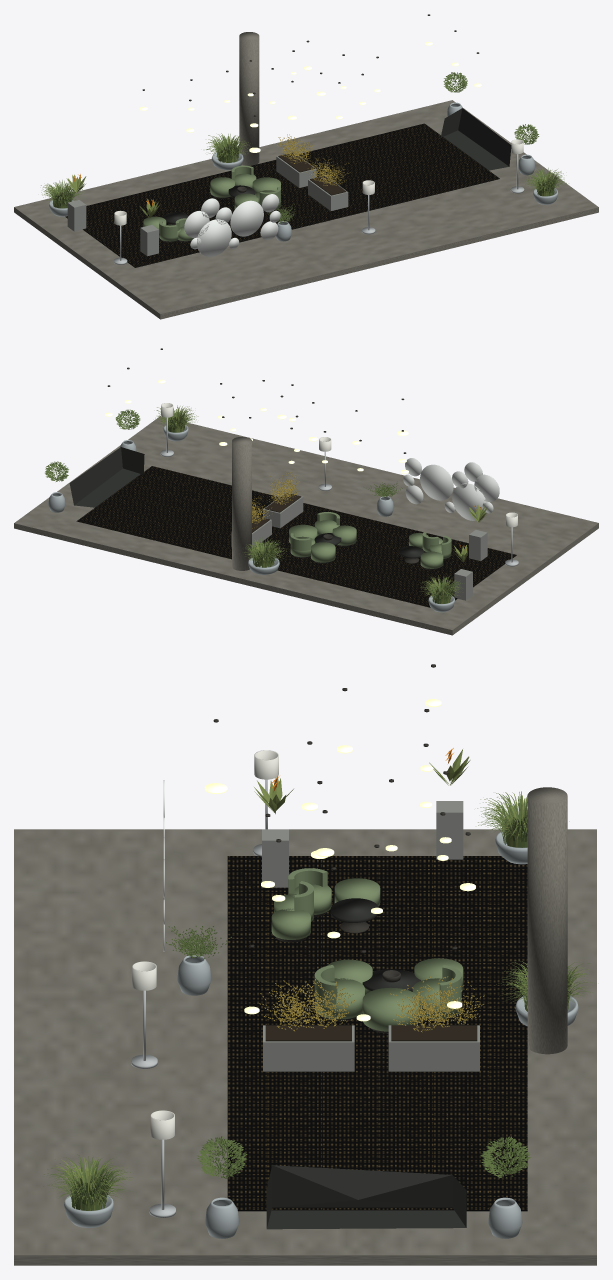
Rendered from M4_cutaway.glb.
3 renders of one model, top to bottom at view 1: azimuth 30°, elevation 25°; view 2: azimuth 150°, elevation 25°; view 3: azimuth 270°, elevation 25°, orthographic. The views are drawn at different scales.
Parts seen in each view (by area): view 1: Stone foundation, Reflective black gold mosaic, Column full height, Angular black reception counter, Circular mirror disk.001, Circular mirror disk, Rectangular planter cast body.001, Rectangular planter cast body, Tall square plant container.001, Fine golden leaves and flowers, Fine golden leaves and flowers.001, Tall square plant container (+2 smaller); view 2: Stone foundation, Reflective black gold mosaic, Column full height, Angular black reception counter, Circular mirror disk, Circular mirror disk.001, Rectangular planter cast body.001, Tall square plant container.001, Tall square plant container, Fine golden leaves and flowers.001, Circular mirror disk.002, Round upholstered seat (+1 smaller); view 3: Stone foundation, Reflective black gold mosaic, Angular black reception counter, Column full height, Rectangular planter cast body, Rectangular planter cast body.001, Round upholstered seat.002, Fine golden leaves and flowers.001, Fine golden leaves and flowers, Tall square plant container.001, Tall square plant container, Recessed dark planting bed (+15 smaller).
Boxes of the visible parts, x1=… form: Stone foundation: x1=14, y1=100, x2=598, y2=319; Reflective black gold mosaic: x1=65, y1=123, x2=499, y2=267; Column full height: x1=239, y1=32, x2=259, y2=165; Angular black reception counter: x1=440, y1=108, x2=511, y2=170; Circular mirror disk.001: x1=197, y1=219, x2=231, y2=256; Circular mirror disk: x1=230, y1=200, x2=263, y2=236; Rectangular planter cast body.001: x1=308, y1=179, x2=348, y2=210; Rectangular planter cast body: x1=276, y1=156, x2=316, y2=187; Tall square plant container.001: x1=67, y1=200, x2=86, y2=231; Fine golden leaves and flowers: x1=277, y1=134, x2=313, y2=163; Fine golden leaves and flowers.001: x1=306, y1=158, x2=350, y2=185; Tall square plant container: x1=140, y1=225, x2=158, y2=256; Stone foundation: x1=14, y1=416, x2=598, y2=635; Reflective black gold mosaic: x1=76, y1=466, x2=516, y2=607; Column full height: x1=232, y1=437, x2=251, y2=570; Angular black reception counter: x1=69, y1=447, x2=144, y2=507; Circular mirror disk: x1=420, y1=464, x2=453, y2=500; Circular mirror disk.001: x1=452, y1=483, x2=486, y2=520; Rectangular planter cast body.001: x1=263, y1=494, x2=303, y2=528; Tall square plant container.001: x1=454, y1=569, x2=472, y2=600; Tall square plant container: x1=469, y1=530, x2=487, y2=560; Fine golden leaves and flowers.001: x1=267, y1=471, x2=299, y2=504; Circular mirror disk.002: x1=474, y1=474, x2=499, y2=501; Round upholstered seat: x1=311, y1=542, x2=335, y2=562; Stone foundation: x1=14, y1=829, x2=596, y2=1265; Reflective black gold mosaic: x1=227, y1=856, x2=527, y2=1211; Angular black reception counter: x1=266, y1=1165, x2=466, y2=1229; Column full height: x1=527, y1=787, x2=567, y2=1054; Rectangular planter cast body: x1=388, y1=1025, x2=479, y2=1071; Rectangular planter cast body.001: x1=263, y1=1025, x2=354, y2=1071; Round upholstered seat.002: x1=362, y1=987, x2=419, y2=1031; Fine golden leaves and flowers.001: x1=259, y1=979, x2=355, y2=1031; Fine golden leaves and flowers: x1=390, y1=976, x2=484, y2=1032; Tall square plant container.001: x1=436, y1=801, x2=463, y2=859; Tall square plant container: x1=262, y1=829, x2=288, y2=887; Recessed dark planting bed: x1=391, y1=1025, x2=477, y2=1041.
Size of the model in its own units: 18.15 by 5.18 by 10.54.
16 materials, 2 textured.
